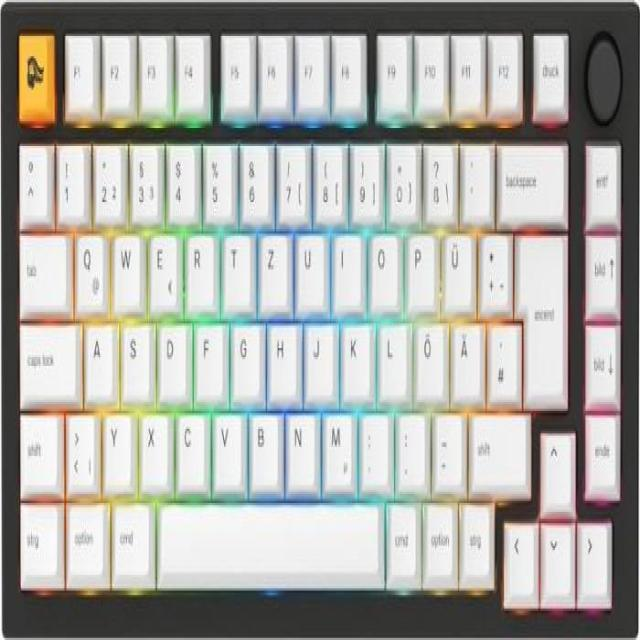0: (385, 135, 418, 220)
1: (54, 137, 85, 220)
2: (92, 135, 125, 220)
3: (128, 135, 161, 220)
4: (165, 135, 196, 220)
5: (201, 135, 232, 220)
6: (238, 135, 270, 220)
7: (274, 135, 308, 222)
8: (311, 135, 345, 222)
9: (349, 135, 382, 220)
a: (83, 317, 113, 400)
accent: (458, 135, 490, 218)
ae: (449, 314, 481, 400)
alt-left: (110, 496, 150, 582)
altgr-right: (384, 496, 417, 584)
b: (247, 404, 279, 490)
c: (174, 407, 205, 488)
caret: (16, 135, 47, 218)
comma: (357, 407, 388, 488)
d: (156, 317, 187, 398)
del: (495, 135, 565, 220)
e: (147, 227, 177, 308)
enter: (513, 223, 567, 407)
f: (193, 317, 222, 400)
g: (230, 317, 260, 400)
h: (265, 314, 296, 400)
hash: (485, 314, 519, 400)
i: (330, 227, 360, 308)
j: (302, 314, 334, 400)
k: (339, 317, 370, 400)
keyboard: (0, 2, 638, 636)
l: (376, 317, 407, 398)
less: (63, 405, 96, 488)
m: (320, 404, 353, 490)
minus: (430, 407, 462, 485)
n: (284, 404, 316, 490)
o: (367, 227, 398, 308)
oe: (413, 314, 445, 400)
p: (404, 227, 433, 308)
plus: (477, 225, 510, 308)
point: (394, 407, 425, 485)
q: (72, 224, 104, 310)
r: (184, 227, 214, 308)
s: (119, 315, 149, 398)
shift-left: (17, 404, 59, 490)
shift-lock: (17, 314, 77, 400)
shift-right: (467, 404, 529, 490)
space: (154, 494, 381, 584)
ss: (422, 135, 454, 220)
strg-left: (16, 494, 58, 586)
strg-right: (458, 494, 494, 584)
t: (220, 227, 250, 308)
tab: (16, 225, 66, 308)
u: (293, 224, 325, 310)
ue: (439, 224, 472, 310)
v: (211, 407, 243, 490)
w: (110, 225, 140, 308)
x: (138, 407, 168, 488)
y: (101, 407, 131, 488)
z: (256, 227, 287, 310)
